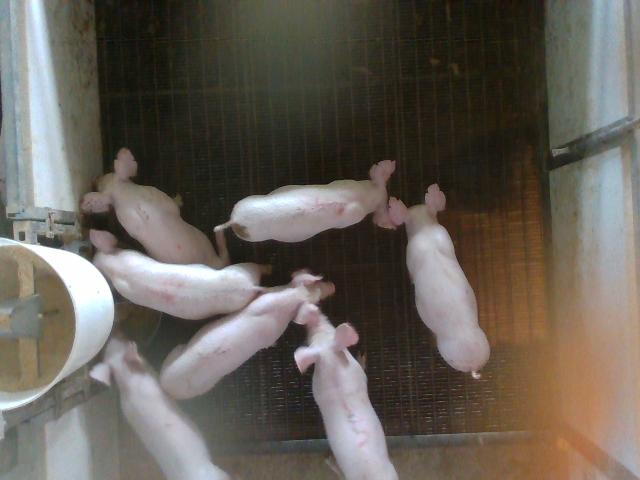pig-3: (295, 304, 398, 479)
pig-4: (90, 231, 268, 319)
pig-5: (215, 160, 395, 242)
